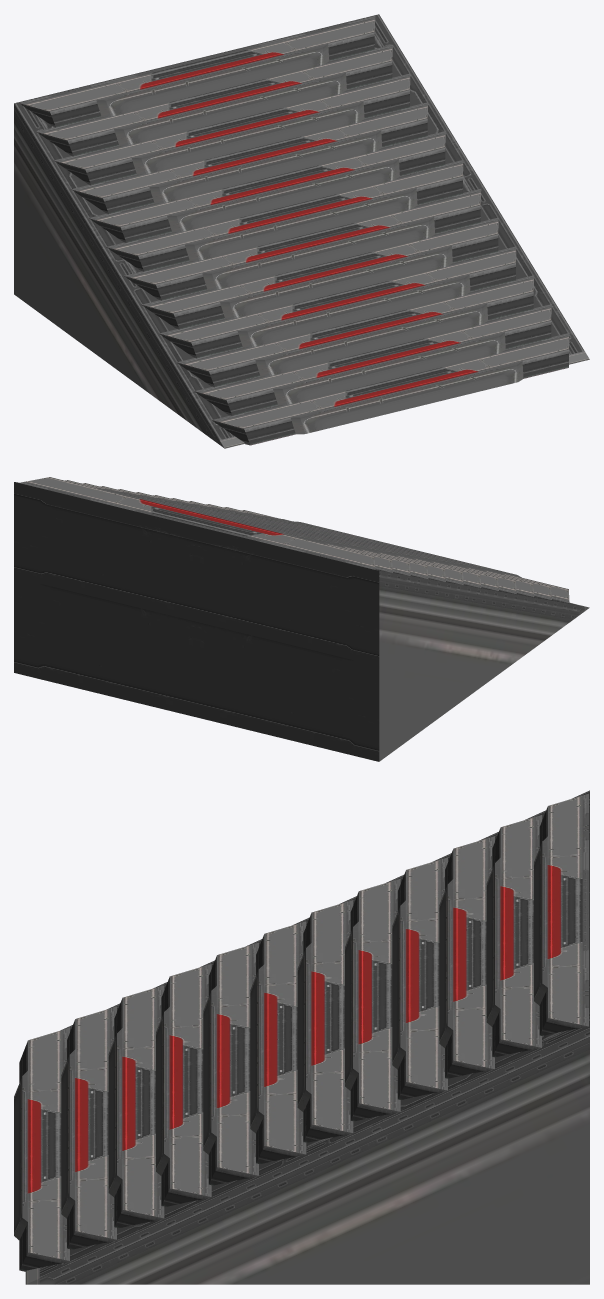
File: Platform_Stairs_4Wide.glb
The picture shows the model from 3 angles, top to bottom: view 1: azimuth 30°, elevation 25°; view 2: azimuth 150°, elevation 25°; view 3: azimuth 270°, elevation 25°; orthographic projection. The views are drawn at different scales.
Parts seen in each view (by area): view 1: Platform_Stairs_4Wide; view 2: Platform_Stairs_4Wide; view 3: Platform_Stairs_4Wide.
Boxes of the visible parts, left/top/right/bottom form: Platform_Stairs_4Wide: left=14, top=14, right=589, bottom=448; Platform_Stairs_4Wide: left=14, top=477, right=589, bottom=761; Platform_Stairs_4Wide: left=14, top=790, right=589, bottom=1284.
Size of the model in its own units: 4 by 2.01 by 4.08.
2 materials, 2 textured.
